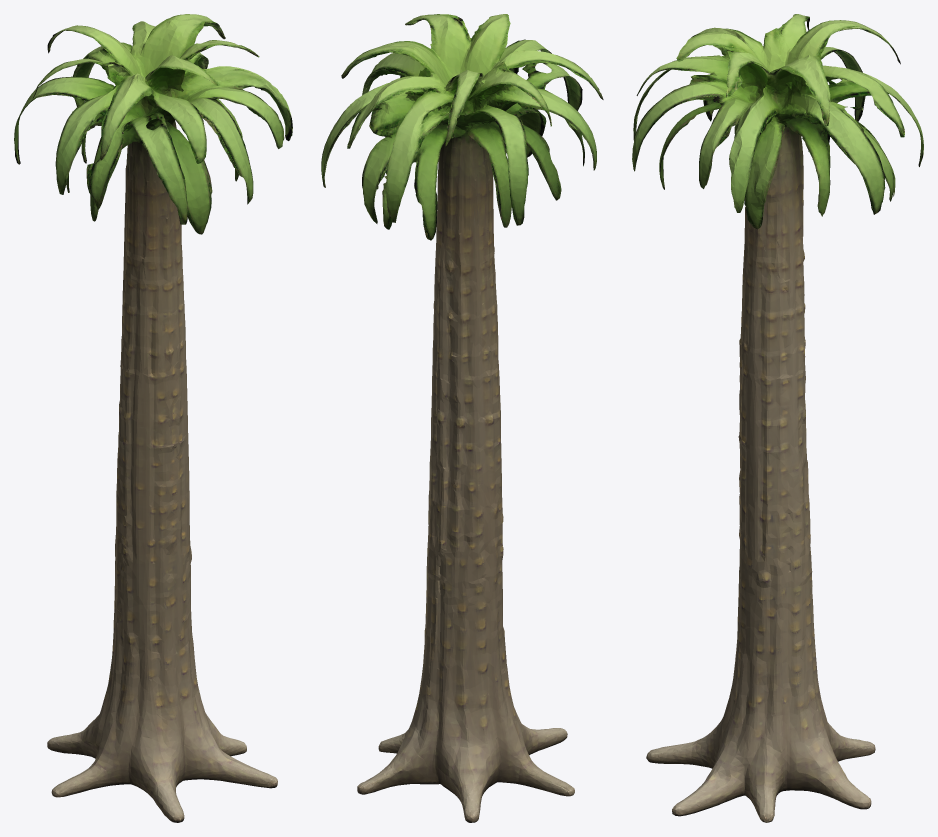
3 views of the same model, side by side, from view 1: azimuth 30°, elevation 25°; view 2: azimuth 150°, elevation 25°; view 3: azimuth 270°, elevation 25° (orthographic).
Parts seen in each view (by area): view 1: geometry_0; view 2: geometry_0; view 3: geometry_0.
Part boxes in pixels (box(x1,y1,x2,y2)): geometry_0: box(14, 14, 292, 822); geometry_0: box(321, 14, 603, 822); geometry_0: box(632, 14, 923, 822).
Size of the model in its own units: 2.27 by 6.83 by 2.42.
Materials: 1 (1 with a texture image).
